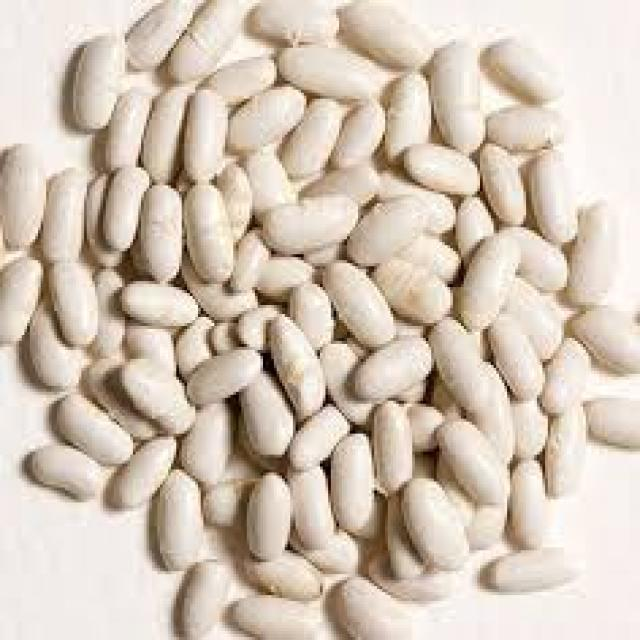Beans: (89, 79, 593, 576)
